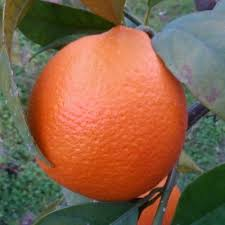orange: (25, 23, 185, 198)
